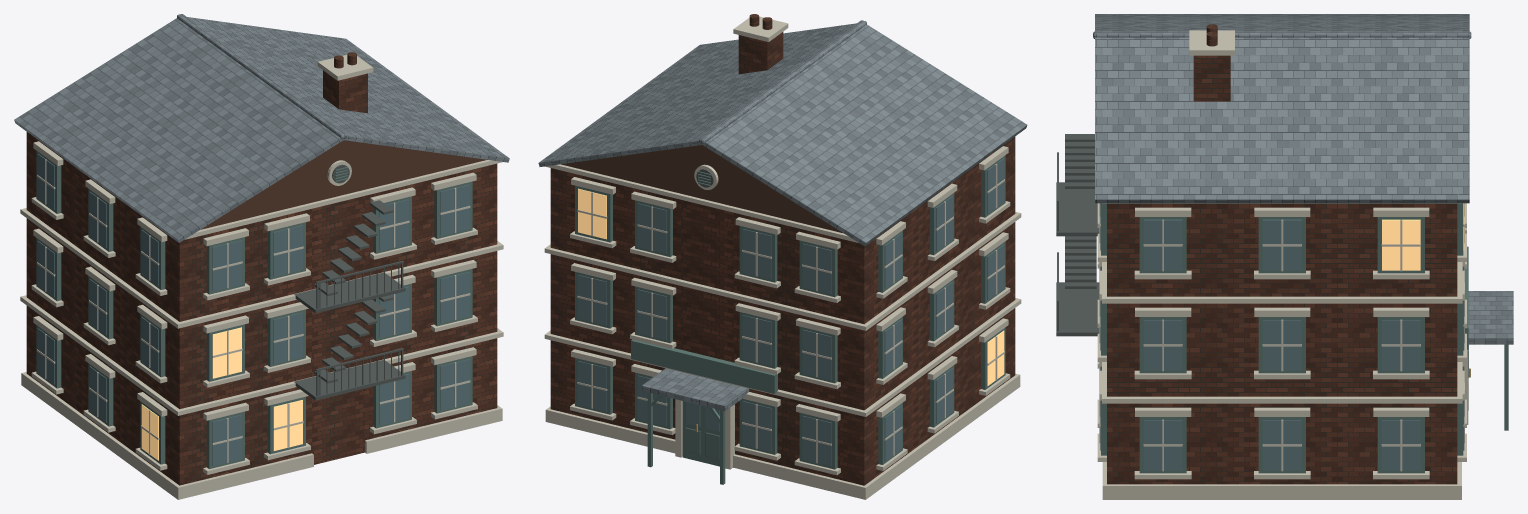
The model's file is mariner.glb.
3 renders of one model, left to right at view 1: azimuth 30°, elevation 25°; view 2: azimuth 150°, elevation 25°; view 3: azimuth 270°, elevation 25°, orthographic. The views are drawn at different scales.
Parts seen in each view (by area): view 1: lodging house brick wing, entry shelter, lodging house foundation wing, sash pane, sash painted frame, gable vent dark, sash pane.001; view 2: lodging house brick wing, entry shelter, lodging house foundation wing, sash pane, sash painted frame, sash pane.001, mariner oak door, door glazing; view 3: entry shelter, lodging house brick wing, lodging house foundation wing, sash pane, sash painted frame, gable vent dark, sash pane.001.
Boxes of the visible parts, x1,y1,x2,y2 form: lodging house brick wing: [26, 52, 497, 485]; entry shelter: [14, 14, 509, 242]; lodging house foundation wing: [20, 55, 503, 499]; sash pane: [37, 154, 469, 465]; sash painted frame: [36, 150, 472, 468]; gable vent dark: [294, 164, 405, 400]; sash pane.001: [141, 327, 302, 460]; lodging house brick wing: [550, 14, 1015, 485]; entry shelter: [538, 20, 1027, 411]; lodging house foundation wing: [544, 16, 1021, 499]; sash pane: [578, 158, 1004, 466]; sash painted frame: [575, 155, 1005, 484]; sash pane.001: [578, 188, 1004, 386]; mariner oak door: [682, 401, 719, 466]; door glazing: [685, 401, 719, 431]; entry shelter: [1093, 14, 1513, 344]; lodging house brick wing: [1107, 24, 1457, 484]; lodging house foundation wing: [1097, 30, 1468, 499]; sash pane: [1100, 203, 1464, 470]; sash painted frame: [1101, 203, 1508, 473]; gable vent dark: [1056, 134, 1099, 336]; sash pane.001: [1382, 203, 1464, 270].
Bounding box in the file's own units: 12.55 × 12.95 × 13.06.
Materials: 8 (2 with a texture image).
